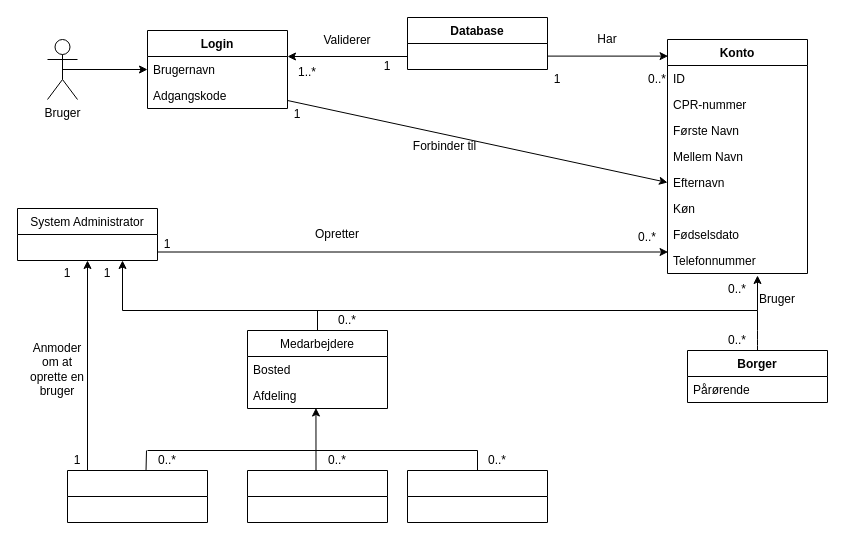
This 845x540 diagram has some shape labels left out. The centre of each missing label's shape, as x and y in pixels:
Koordinator: the point at 137,496
Sagsbehandler: the point at 317,496
Støtteperson: the point at 477,496
